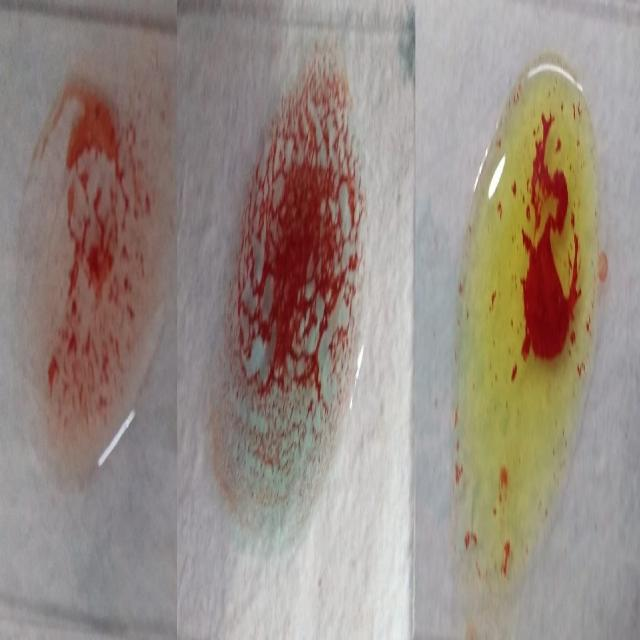A: (214, 58, 371, 540)
B: (455, 68, 599, 540)
D: (18, 66, 171, 478)
